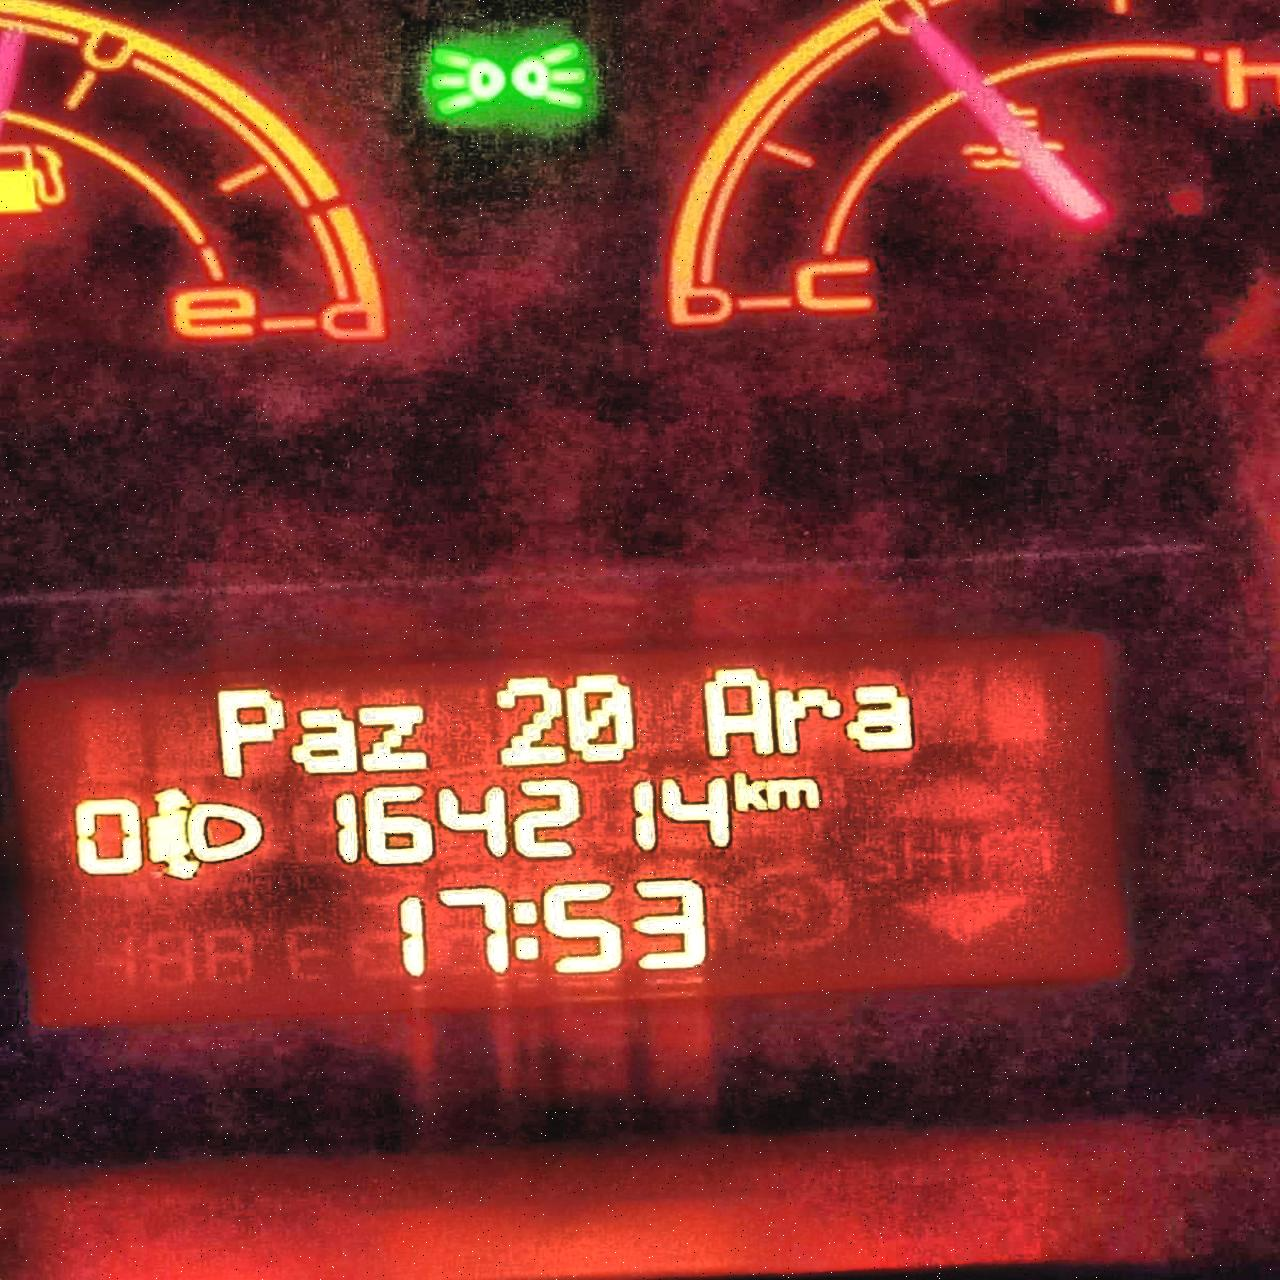0: (67, 791, 144, 877), (568, 669, 640, 761)
1: (388, 884, 425, 985), (622, 775, 652, 862), (332, 788, 359, 874)
2: (491, 674, 571, 772), (513, 775, 579, 863)
3: (634, 876, 720, 985)
4: (433, 782, 511, 863), (656, 774, 731, 857)
5: (542, 877, 627, 980)
6: (365, 782, 440, 871)
7: (437, 883, 511, 980)
X: (206, 676, 292, 778), (697, 655, 777, 755), (359, 700, 437, 770), (846, 680, 915, 758), (769, 685, 842, 755), (291, 706, 365, 775), (509, 893, 544, 968), (768, 776, 821, 810), (729, 769, 768, 815)
odometer: (8, 626, 1153, 1028)
